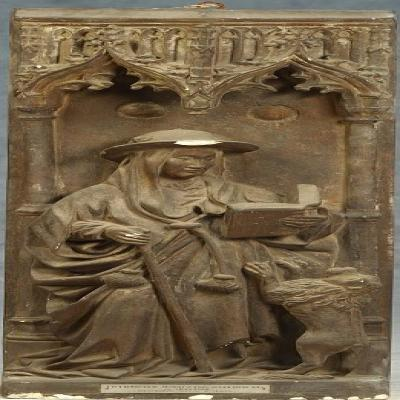sculpture: (0, 6, 395, 400)
